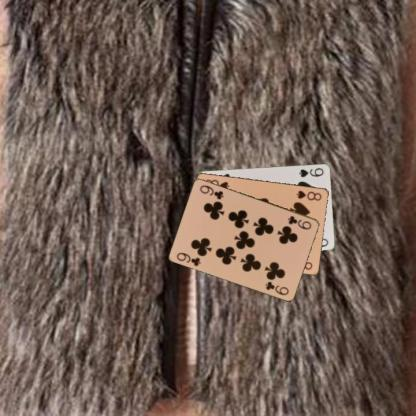8s: (294, 188, 323, 202)
9c: (174, 249, 202, 268), (286, 213, 312, 231)
9s: (296, 165, 325, 178)
